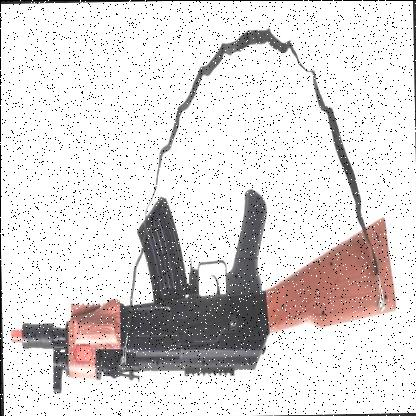rifle: (8, 184, 402, 409)
